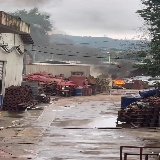fire: (113, 78, 125, 84)
